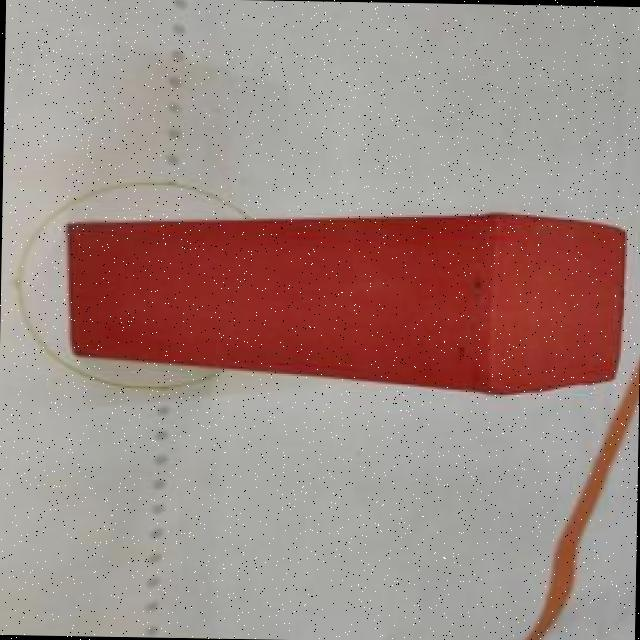redbox: (59, 202, 630, 397)
